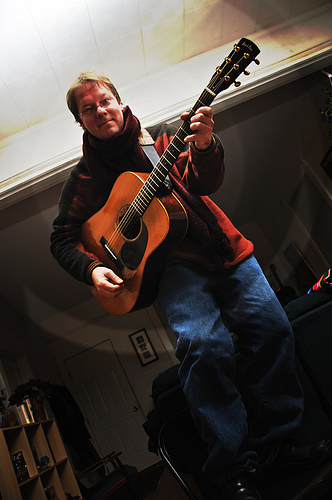guitar: (67, 36, 261, 315)
